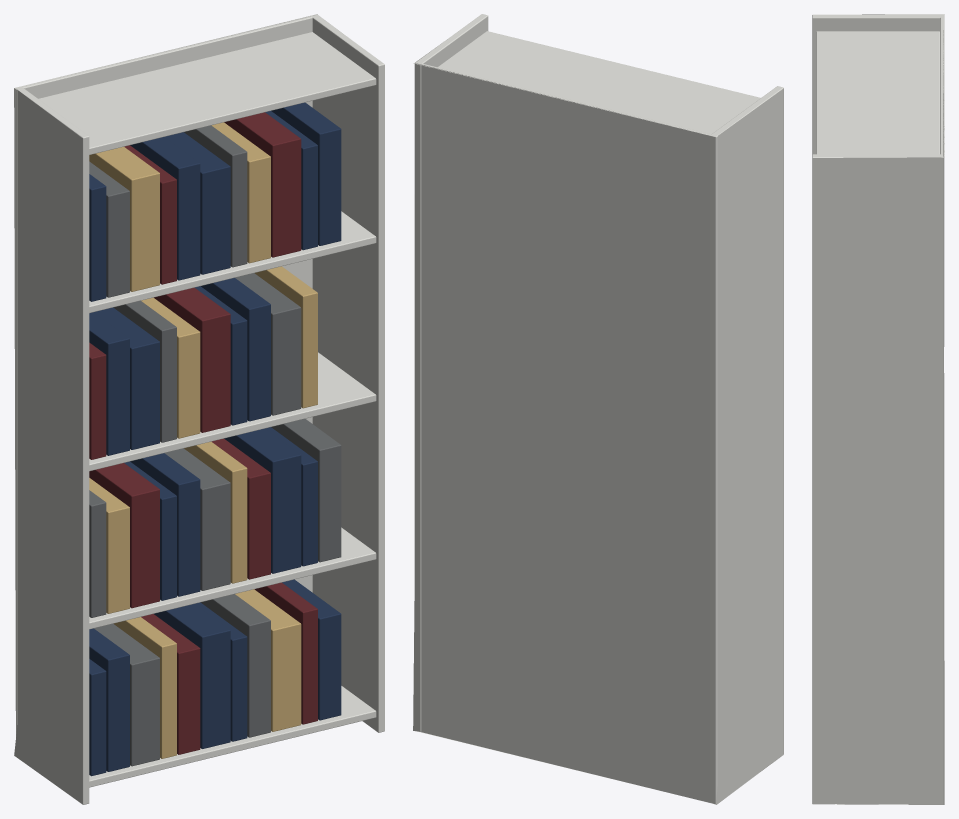
File: PROP_Bookcase_Binders.glb
3 views of the same model, side by side, from view 1: azimuth 30°, elevation 25°; view 2: azimuth 150°, elevation 25°; view 3: azimuth 270°, elevation 25° (orthographic). The views are drawn at different scales.
Parts seen in each view (by area): view 1: PROP_Bookcase_Binders_Mesh; view 2: PROP_Bookcase_Binders_Mesh; view 3: PROP_Bookcase_Binders_Mesh.
Boxes of the visible parts, <box> form: PROP_Bookcase_Binders_Mesh: <box>14,14,384,804</box>; PROP_Bookcase_Binders_Mesh: <box>413,14,783,804</box>; PROP_Bookcase_Binders_Mesh: <box>812,14,944,804</box>.
Size of what is drawn, in the model's own units: 0.904 by 1.9 by 0.352.
